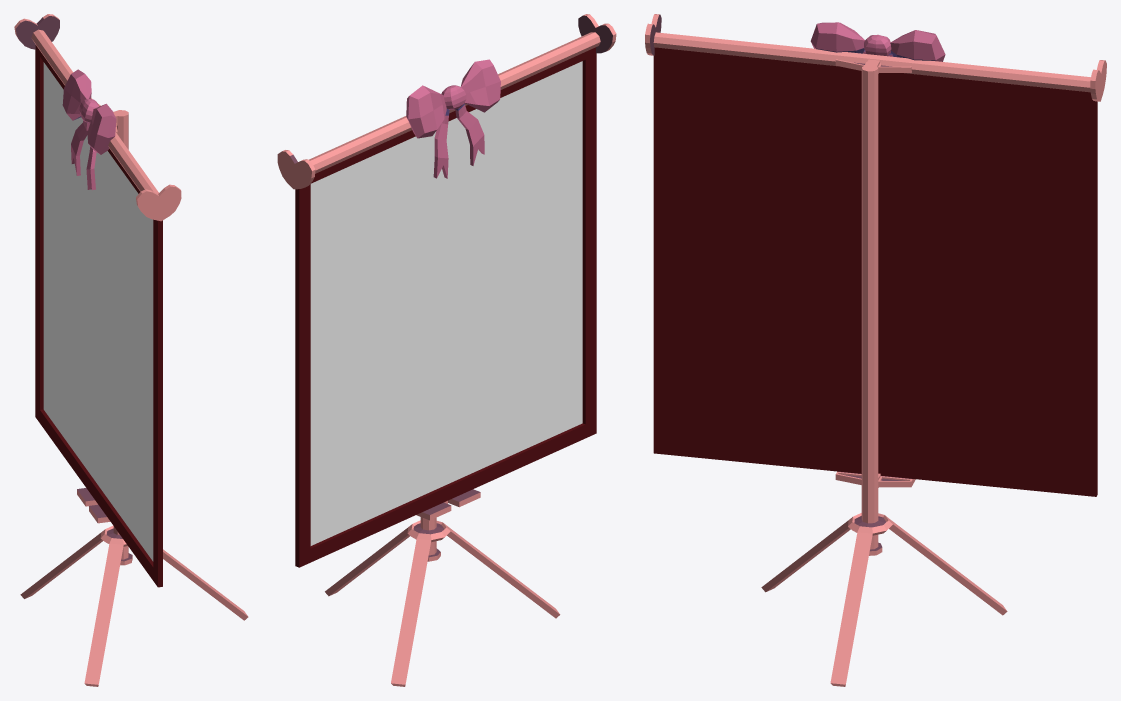
File: tiramysu-theatre.glb
3 views of the same model, side by side, from view 1: azimuth 30°, elevation 25°; view 2: azimuth 150°, elevation 25°; view 3: azimuth 270°, elevation 25° (orthographic). The views are drawn at different scales.
Visible parts, largest first — view 1: Screen, Tripod, Hearts, BowSides, Cylinder, Frame, Ribbons; view 2: Screen, Tripod, Cylinder, BowSides, Hearts, Ribbons, Frame; view 3: Screen, Frame, Cylinder, Tripod, BowSides, Hearts.
Boxes of the visible parts, x1,y1,x2,y2 form: Screen: [35, 45, 162, 587]; Tripod: [20, 525, 248, 686]; Hearts: [14, 14, 181, 221]; BowSides: [62, 69, 116, 154]; Cylinder: [31, 29, 158, 194]; Frame: [77, 104, 132, 565]; Ribbons: [71, 120, 96, 190]; Screen: [295, 47, 596, 567]; Tripod: [325, 520, 560, 686]; Cylinder: [309, 32, 600, 173]; BowSides: [406, 59, 500, 138]; Hearts: [277, 14, 616, 189]; Ribbons: [433, 103, 484, 178]; Frame: [413, 489, 480, 561]; Screen: [653, 47, 1097, 496]; Frame: [835, 59, 915, 555]; Cylinder: [653, 32, 1090, 92]; Tripod: [761, 513, 1007, 686]; BowSides: [810, 22, 945, 61]; Hearts: [645, 14, 1106, 101].
Size of the model in its own units: 1.22 by 3.28 by 2.32.
Materials: 1 (1 with a texture image).
